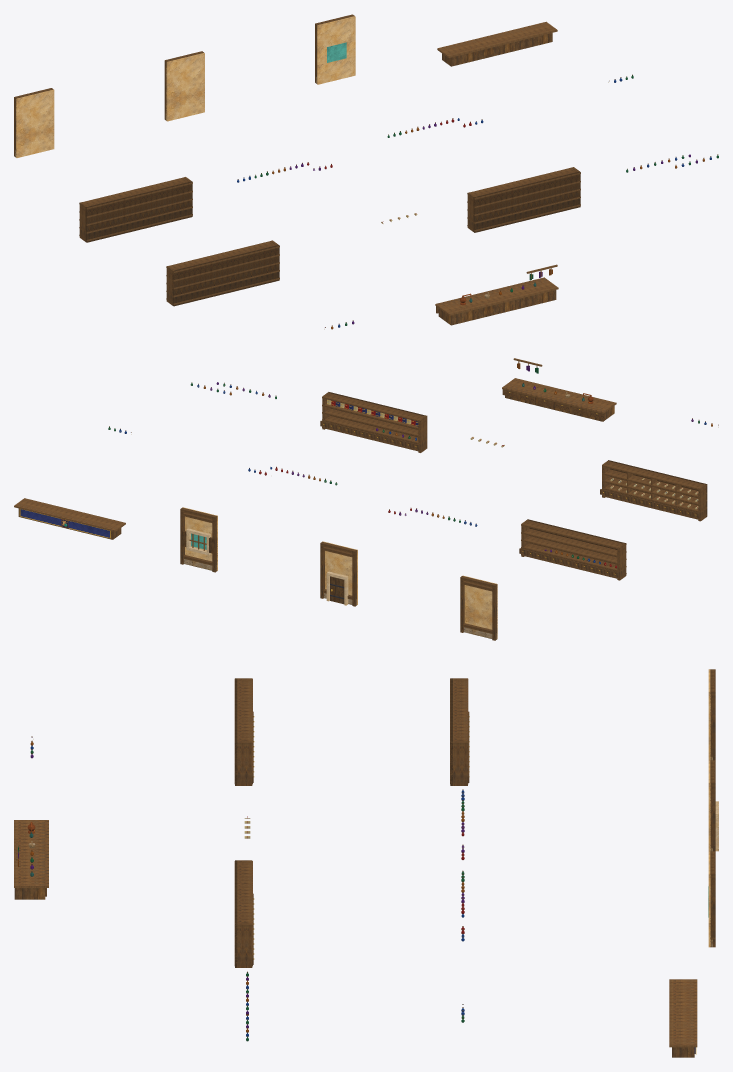
Rendered from sanctuary-emporium.glb.
The picture shows the model from 3 angles, top to bottom: view 1: azimuth 30°, elevation 25°; view 2: azimuth 150°, elevation 25°; view 3: azimuth 270°, elevation 25°; orthographic projection. The views are drawn at different scales.
Parts seen in each view (by area): view 1: potion-cabinet-opaque-0, scroll-cabinet-opaque-0, rear-shelves-opaque-0, alchemy-bench-opaque-0, exit-door-opaque-0, window-wall-opaque-0, wall-opaque-0, counter-opaque-0; view 2: scroll-cabinet-opaque-0, rear-shelves-opaque-0, potion-cabinet-opaque-0, alchemy-bench-opaque-0, exit-door-opaque-0, window-wall-opaque-0, wall-opaque-0, counter-opaque-0; view 3: alchemy-bench-opaque-0, counter-opaque-0, rear-shelves-opaque-0, scroll-cabinet-opaque-0, potion-cabinet-opaque-0, exit-door-opaque-0, window-wall-opaque-0, wall-opaque-0.
Boxes of the visible parts, x1,y1,x2,y2 form: potion-cabinet-opaque-0: (79, 177, 192, 242); scroll-cabinet-opaque-0: (166, 240, 279, 306); rear-shelves-opaque-0: (467, 167, 580, 232); alchemy-bench-opaque-0: (435, 264, 558, 325); exit-door-opaque-0: (164, 51, 204, 121); window-wall-opaque-0: (315, 14, 355, 84); wall-opaque-0: (14, 88, 54, 157); counter-opaque-0: (437, 21, 557, 66); scroll-cabinet-opaque-0: (600, 460, 707, 521); rear-shelves-opaque-0: (320, 392, 427, 452); potion-cabinet-opaque-0: (519, 519, 626, 580); alchemy-bench-opaque-0: (502, 358, 616, 421); exit-door-opaque-0: (320, 541, 357, 606); window-wall-opaque-0: (180, 507, 217, 572); wall-opaque-0: (460, 575, 497, 640); counter-opaque-0: (14, 498, 125, 539); alchemy-bench-opaque-0: (14, 820, 48, 899); counter-opaque-0: (669, 979, 697, 1057); rear-shelves-opaque-0: (234, 860, 254, 967); scroll-cabinet-opaque-0: (234, 678, 254, 785); potion-cabinet-opaque-0: (450, 678, 469, 785); exit-door-opaque-0: (708, 760, 718, 851); window-wall-opaque-0: (708, 851, 715, 947); wall-opaque-0: (708, 669, 715, 760).
Bounding box in the file's own units: 14.86 × 1.5 × 13.09.
Materials: 1 (1 with a texture image).
